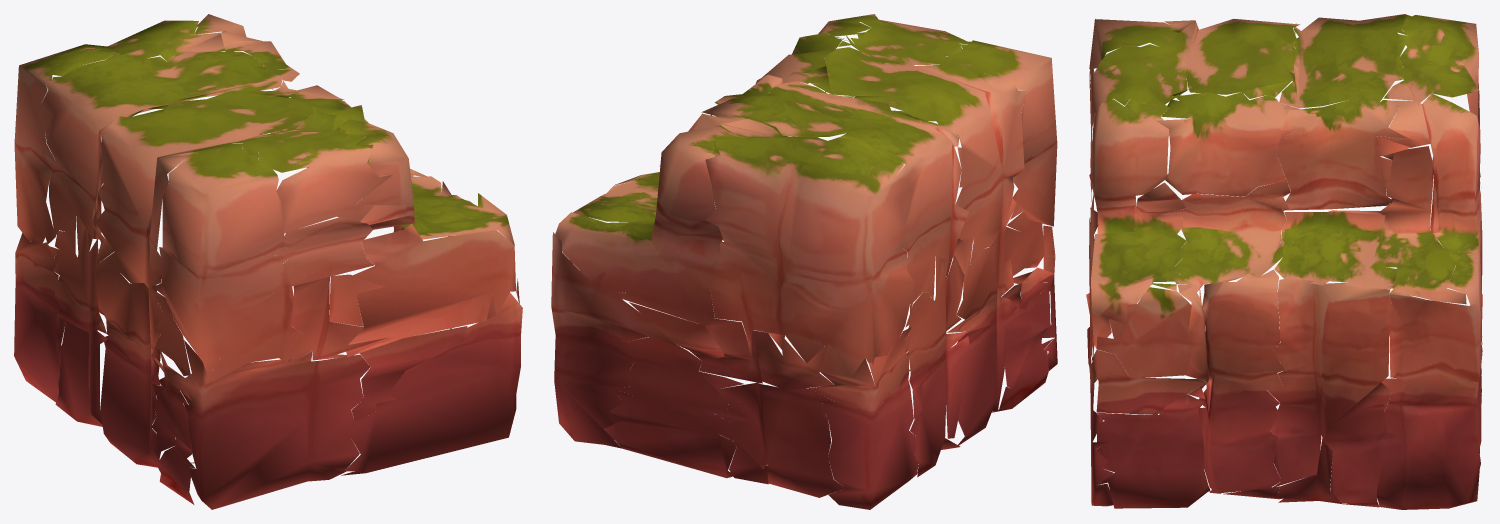
The model's file is sandstone-wide.glb.
The picture shows the model from 3 angles, left to right: view 1: azimuth 30°, elevation 25°; view 2: azimuth 150°, elevation 25°; view 3: azimuth 270°, elevation 25°; orthographic projection. The views are drawn at different scales.
Parts seen in each view (by area): view 1: tripo_node_b0f8a0bd-0bc1-44a7-ab1b-c76f9c5cd836; view 2: tripo_node_b0f8a0bd-0bc1-44a7-ab1b-c76f9c5cd836; view 3: tripo_node_b0f8a0bd-0bc1-44a7-ab1b-c76f9c5cd836.
Part boxes in pixels (x1,y1,x2,y2): tripo_node_b0f8a0bd-0bc1-44a7-ab1b-c76f9c5cd836: [14, 14, 522, 509]; tripo_node_b0f8a0bd-0bc1-44a7-ab1b-c76f9c5cd836: [551, 14, 1057, 509]; tripo_node_b0f8a0bd-0bc1-44a7-ab1b-c76f9c5cd836: [1086, 14, 1482, 509].
Bounding box in the file's own units: 1.01 × 1.01 × 1.01.
Materials: 1 (1 with a texture image).
